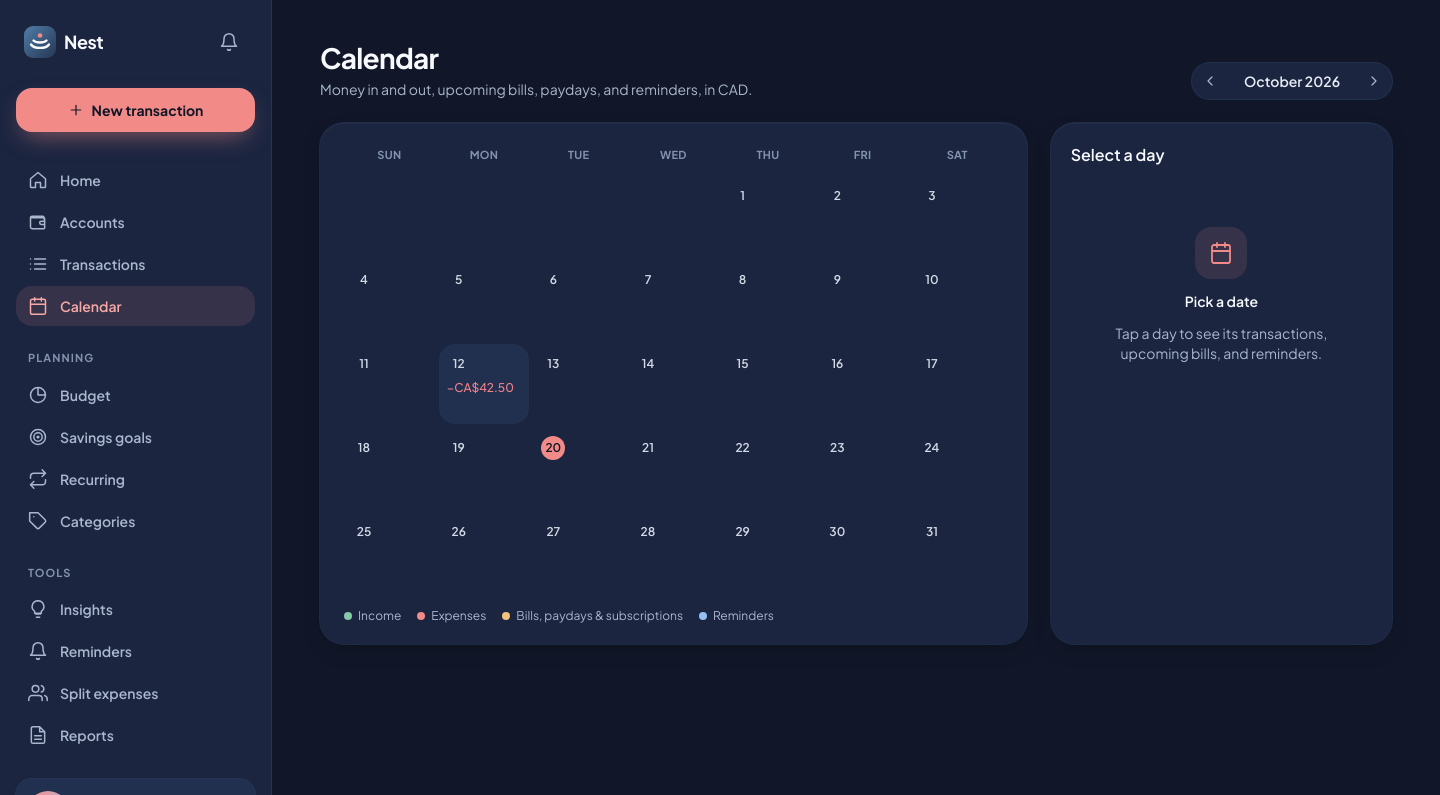
Test case: CalendarPage › shows daily totals and lists a selected day’s transactions
The width and height of the screenshot is (1440, 795).
Click the button "12 −CA$42.50" at (484, 384), box [439,344,529,424]
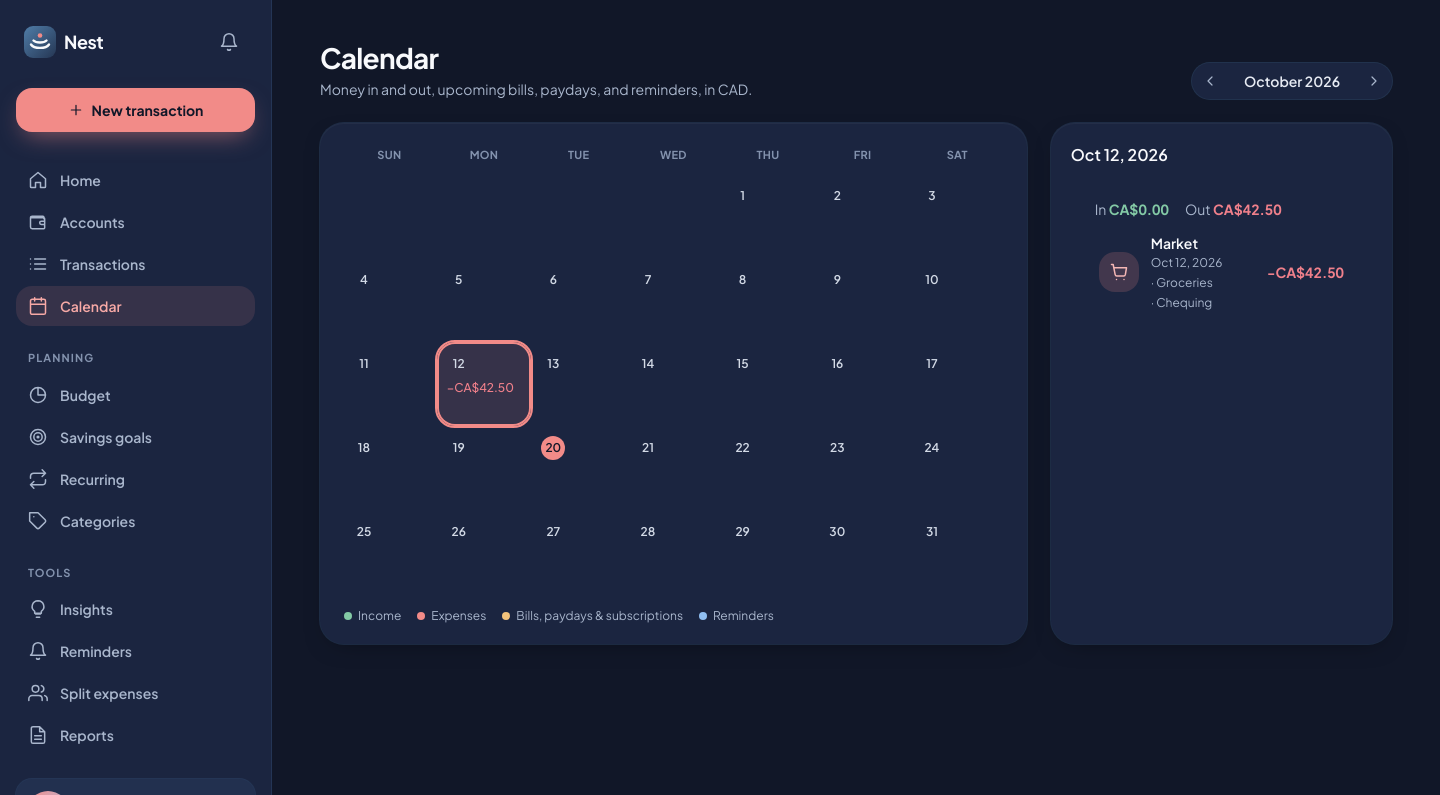
expect the text "Market" is shown: met, box [1151,234,1198,252]
expect the text "· Groceries" is shown: met, box [1151,275,1213,291]
